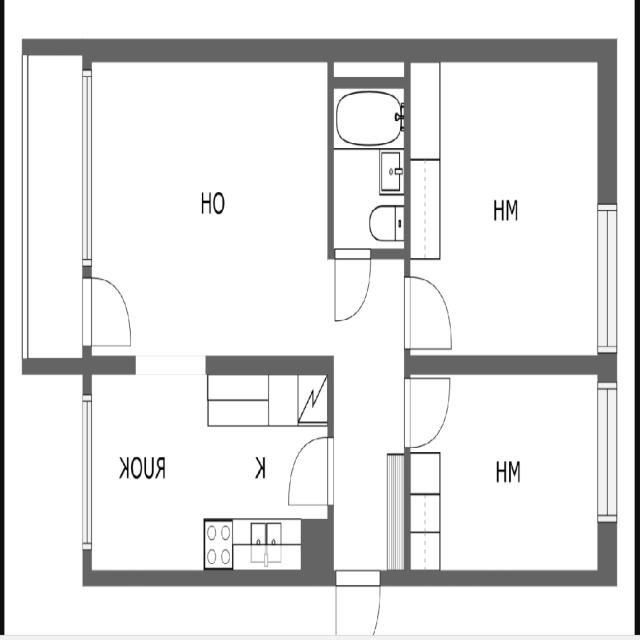door: (79, 266, 140, 350), (282, 429, 338, 520), (400, 266, 458, 351), (331, 559, 388, 635), (402, 368, 454, 451), (330, 244, 374, 328)
window: (590, 369, 623, 534), (592, 197, 624, 360), (75, 67, 98, 272), (129, 349, 214, 384), (80, 392, 93, 556)
zone: (86, 55, 335, 360), (407, 59, 606, 358), (83, 369, 330, 580), (406, 366, 607, 580), (332, 73, 406, 251), (329, 244, 374, 328)
